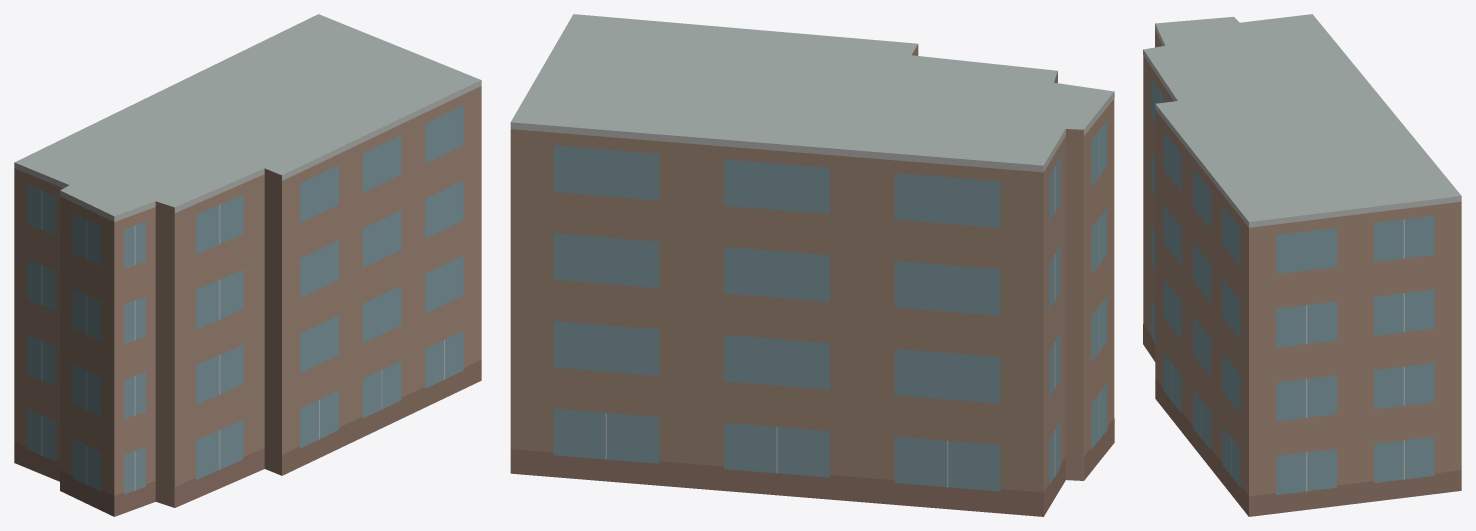
Rendered from survey-upis-32613901.glb.
3 renders of one model, left to right at view 1: azimuth 30°, elevation 25°; view 2: azimuth 150°, elevation 25°; view 3: azimuth 270°, elevation 25°, orthographic. The views are drawn at different scales.
Visible parts, largest first — view 1: survey-upis-32613901.tmp; view 2: survey-upis-32613901.tmp; view 3: survey-upis-32613901.tmp.
Part boxes in pixels (x1,y1,x2,y2): survey-upis-32613901.tmp: (14, 14, 481, 516); survey-upis-32613901.tmp: (510, 14, 1114, 516); survey-upis-32613901.tmp: (1143, 14, 1461, 516).
Size of the model in its own units: 19.24 by 12.7 by 12.45.
